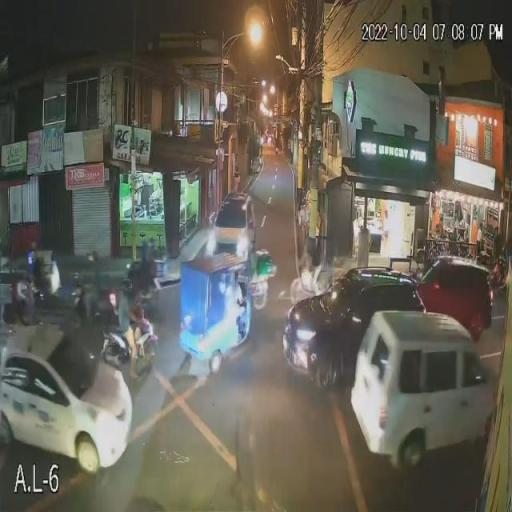helmet: (119, 278, 135, 293), (87, 249, 100, 265)
motorcycle: (101, 329, 158, 365), (72, 273, 116, 316)
rider: (118, 294, 142, 380), (83, 267, 103, 318)
